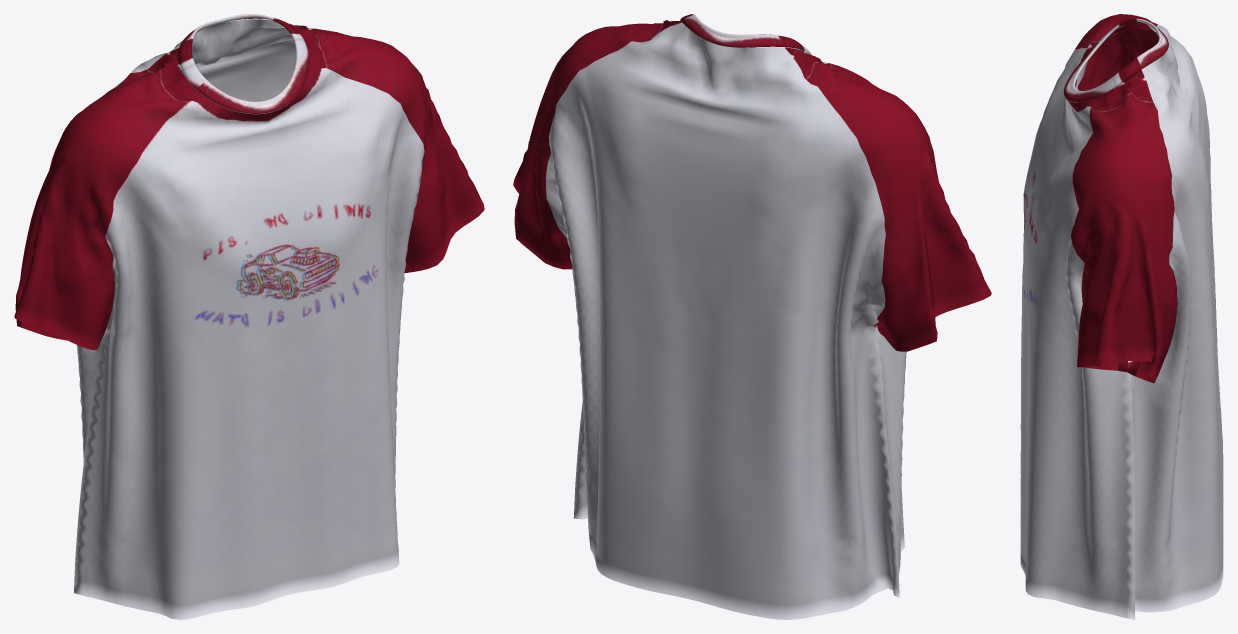
Rendered from tee-2XL.glb.
3 views of the same model, side by side, from view 1: azimuth 30°, elevation 25°; view 2: azimuth 150°, elevation 25°; view 3: azimuth 270°, elevation 25° (orthographic). The views are drawn at different scales.
Parts seen in each view (by area): view 1: tee; view 2: tee; view 3: tee.
Part boxes in pixels (<box>): tee: <box>14,14,484,619</box>; tee: <box>513,14,991,619</box>; tee: <box>1020,14,1223,619</box>.
Size of the model in its own units: 0.6715 by 0.7337 by 0.2611.
2 materials, 2 textured.
